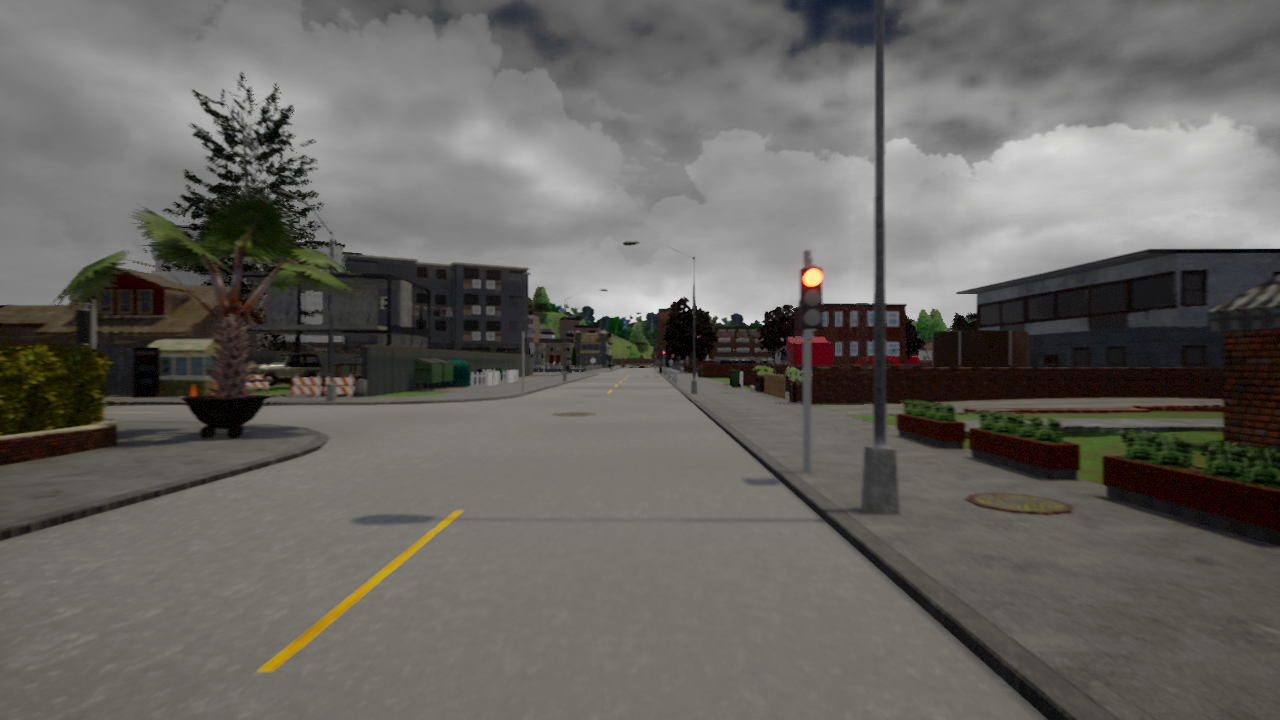red: (800, 265, 826, 331)
